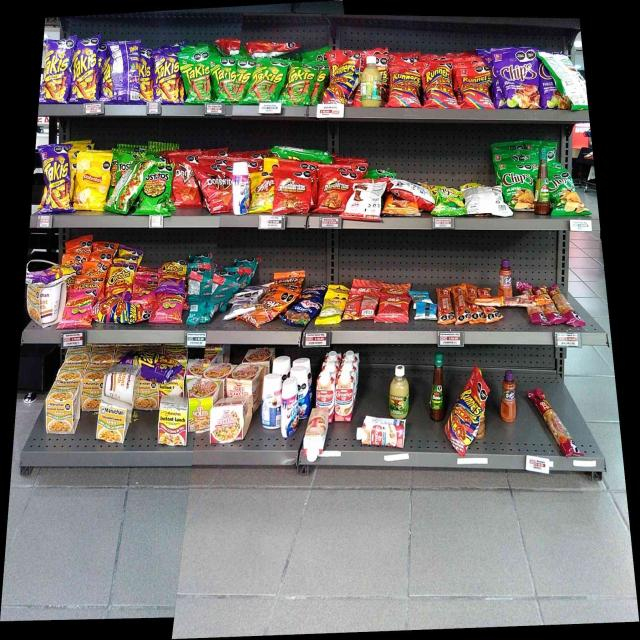bitzEnchilado90: (380, 294, 409, 323)
bitzEnchilado95: (473, 298, 550, 308), (455, 286, 469, 324), (440, 285, 452, 322)
bitzHabanero: (530, 388, 583, 458), (552, 286, 584, 328)
bokadosCacahuates: (289, 294, 318, 324)
cheetosFlaminHot: (107, 263, 132, 300), (160, 262, 186, 294), (29, 266, 75, 283)
cheetosOriginal: (78, 274, 104, 290)
chipsFuego: (494, 49, 538, 109), (541, 64, 558, 111)
chipsJalapeno: (502, 164, 534, 212), (553, 174, 583, 216)
chipsPapatinas: (434, 186, 463, 216)
churrumais: (68, 292, 91, 324), (158, 297, 184, 321), (134, 272, 156, 300)
delPrimoSalsa: (361, 54, 381, 107), (391, 364, 408, 417)
doritosNacho: (198, 168, 230, 210), (175, 154, 196, 206)
fritosLimon: (250, 172, 272, 210)
hotNutsOriginal: (385, 197, 421, 220)
leoCacahuates: (230, 290, 256, 312)
leoMix: (258, 290, 286, 330)
maruchanPollo: (45, 381, 80, 433), (27, 287, 64, 325), (97, 406, 125, 440)
maruchanRes: (160, 392, 188, 445)
nestleCarnation: (355, 415, 405, 447), (304, 412, 326, 458), (336, 372, 352, 421), (316, 373, 333, 408)
nestleLechera: (281, 380, 298, 437), (262, 377, 279, 429), (232, 163, 248, 214)
nissinCamaron: (190, 377, 211, 432)
nissinRes: (213, 399, 248, 442)
productoAtras: (116, 42, 138, 102), (561, 52, 584, 108), (350, 183, 382, 220), (189, 273, 213, 321), (109, 183, 143, 215), (465, 187, 500, 217), (347, 292, 378, 321), (390, 178, 428, 195), (417, 302, 437, 321)
rancheritos: (274, 168, 311, 216), (317, 164, 348, 214)
runners: (447, 389, 479, 451), (326, 52, 359, 104), (420, 61, 454, 110), (456, 64, 491, 109), (389, 66, 418, 107), (96, 303, 150, 323)
sabritasOriginal: (75, 152, 107, 212)
salsaBufalo: (536, 150, 551, 216), (430, 355, 443, 421)
semillasCalabaza: (323, 290, 343, 321)
tajinDulce: (501, 371, 516, 420), (497, 259, 512, 295)
takisFuego: (44, 147, 72, 210), (44, 40, 72, 102), (74, 37, 100, 102), (157, 52, 178, 100), (140, 48, 155, 101), (102, 56, 113, 102)
takisOriginal: (179, 52, 210, 103), (285, 62, 320, 105), (252, 58, 283, 104), (212, 56, 235, 102), (238, 58, 250, 103)
tostitos: (146, 170, 172, 214), (111, 149, 130, 180)
